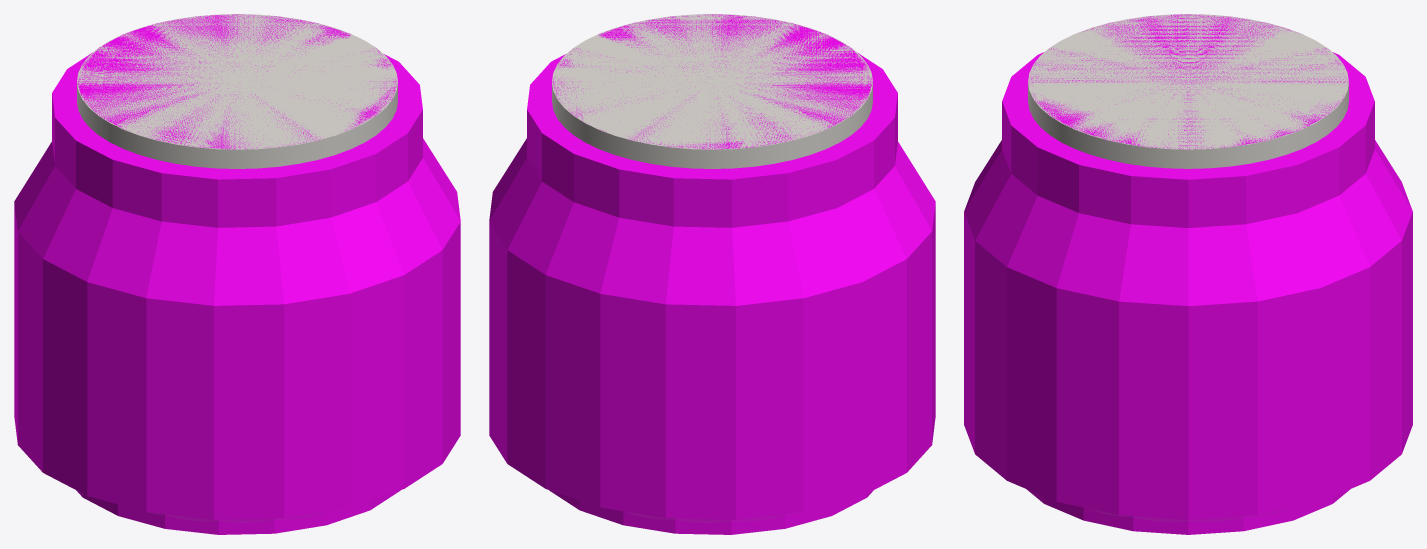
Rendered from jar.gltf.
The picture shows the model from 3 angles, left to right: view 1: azimuth 30°, elevation 25°; view 2: azimuth 150°, elevation 25°; view 3: azimuth 270°, elevation 25°; orthographic projection.
Parts seen in each view (by area): view 1: lid, lid_cap, jar_piece_47, jar_piece_48, jar_piece_46, jar_piece_27, jar_piece_28, jar_piece_26, jar_piece_49, jar_piece_45, jar_piece_29, jar_piece_25 (+49 smaller); view 2: lid, lid_cap, jar_piece_54, jar_piece_53, jar_piece_55, jar_piece_34, jar_piece_33, jar_piece_35, jar_piece_52, jar_piece_56, jar_piece_32, jar_piece_36 (+49 smaller); view 3: lid, lid_cap, jar_piece_41, jar_piece_60, jar_piece_21, jar_piece_40, jar_piece_42, jar_piece_59, jar_piece_22, jar_piece_39, jar_piece_43, jar_piece_58 (+51 smaller).
Boxes of the visible parts, left/top/right/bottom form: lid: left=77, top=14, right=397, bottom=168; lid_cap: left=77, top=14, right=397, bottom=149; jar_piece_47: left=214, top=359, right=284, bottom=443; jar_piece_48: left=146, top=353, right=213, bottom=443; jar_piece_46: left=284, top=349, right=349, bottom=442; jar_piece_27: left=214, top=442, right=284, bottom=519; jar_piece_28: left=146, top=436, right=213, bottom=519; jar_piece_26: left=284, top=431, right=349, bottom=517; jar_piece_49: left=87, top=337, right=146, bottom=435; jar_piece_45: left=349, top=330, right=404, bottom=431; jar_piece_29: left=87, top=420, right=146, bottom=511; jar_piece_25: left=349, top=413, right=404, bottom=507; lid: left=552, top=14, right=872, bottom=168; lid_cap: left=552, top=14, right=872, bottom=149; jar_piece_54: left=665, top=359, right=735, bottom=443; jar_piece_53: left=736, top=353, right=803, bottom=443; jar_piece_55: left=600, top=349, right=665, bottom=442; jar_piece_34: left=665, top=442, right=735, bottom=519; jar_piece_33: left=736, top=436, right=803, bottom=519; jar_piece_35: left=600, top=431, right=665, bottom=517; jar_piece_52: left=803, top=337, right=862, bottom=435; jar_piece_56: left=545, top=330, right=600, bottom=431; jar_piece_32: left=803, top=420, right=862, bottom=511; jar_piece_36: left=545, top=413, right=600, bottom=507; lid: left=1028, top=14, right=1348, bottom=168; lid_cap: left=1028, top=14, right=1348, bottom=149; jar_piece_41: left=1119, top=356, right=1188, bottom=443; jar_piece_60: left=1188, top=356, right=1257, bottom=443; jar_piece_21: left=1119, top=439, right=1188, bottom=519; jar_piece_40: left=1188, top=439, right=1257, bottom=519; jar_piece_42: left=1056, top=343, right=1118, bottom=439; jar_piece_59: left=1258, top=343, right=1320, bottom=439; jar_piece_22: left=1056, top=426, right=1118, bottom=514; jar_piece_39: left=1258, top=426, right=1320, bottom=514; jar_piece_43: left=1007, top=322, right=1056, bottom=425; jar_piece_58: left=1320, top=322, right=1369, bottom=425.
Size of what is drawn, in the model's own units: 5.9 by 5.48 by 5.9.
